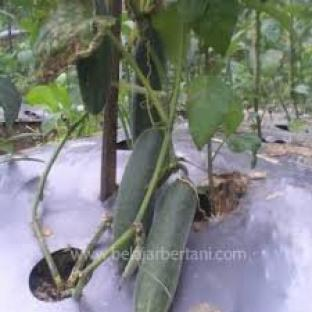Cucumber: (135, 179, 198, 311), (113, 128, 163, 239), (77, 38, 112, 115), (135, 19, 166, 90)
